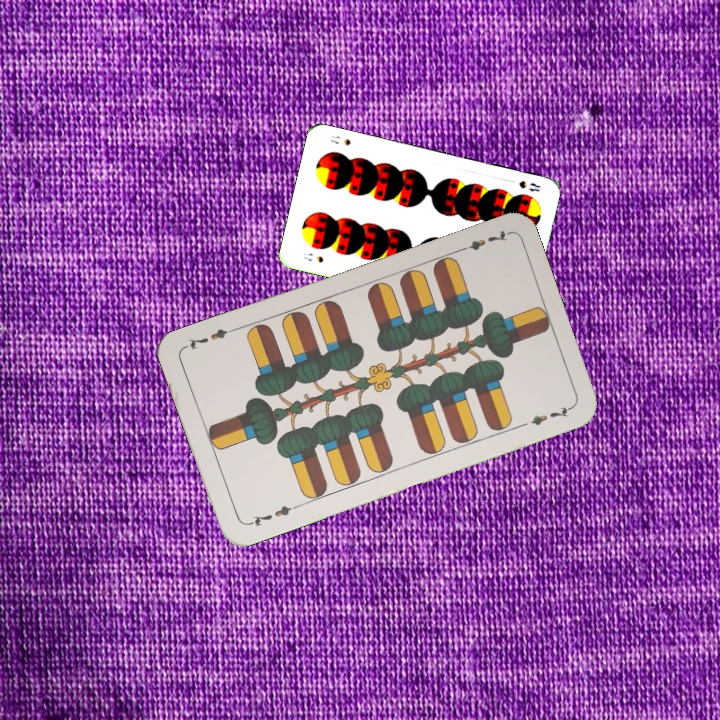E7: (454, 226, 511, 255), (243, 501, 300, 529)
S8: (515, 177, 543, 195), (299, 249, 326, 265)
